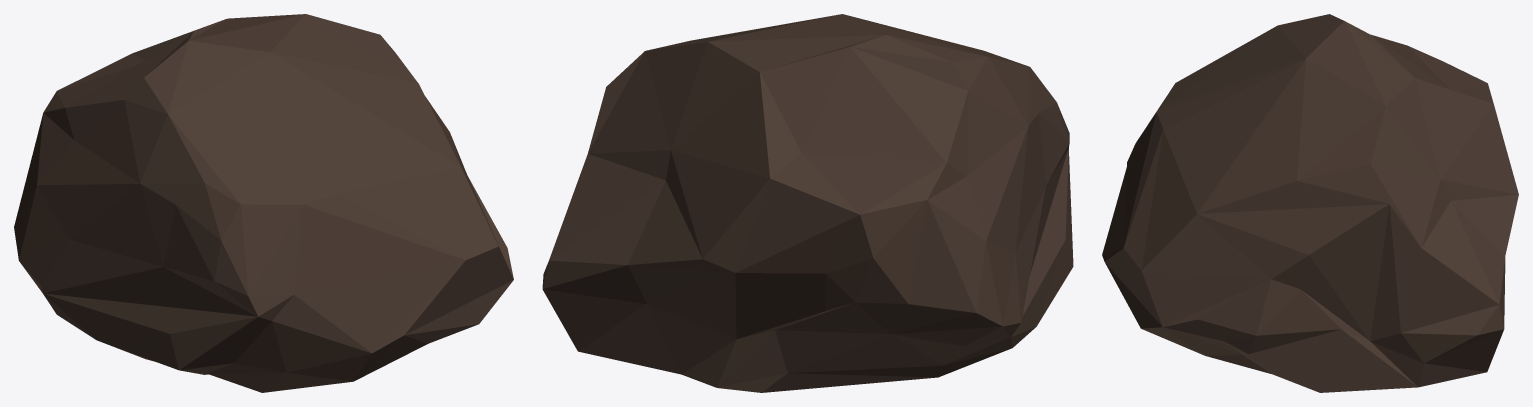
File: cuc da.fbx
3 views of the same model, side by side, from view 1: azimuth 30°, elevation 25°; view 2: azimuth 150°, elevation 25°; view 3: azimuth 270°, elevation 25° (orthographic). The views are drawn at different scales.
Visible parts, largest first — view 1: Stone_04; view 2: Stone_04; view 3: Stone_04.
Part boxes in pixels (x1,y1,x2,y2): Stone_04: (14, 14, 513, 392); Stone_04: (542, 14, 1073, 392); Stone_04: (1102, 14, 1518, 392).
Bounding box in the file's own units: 0.7936 × 0.5458 × 0.7857.
